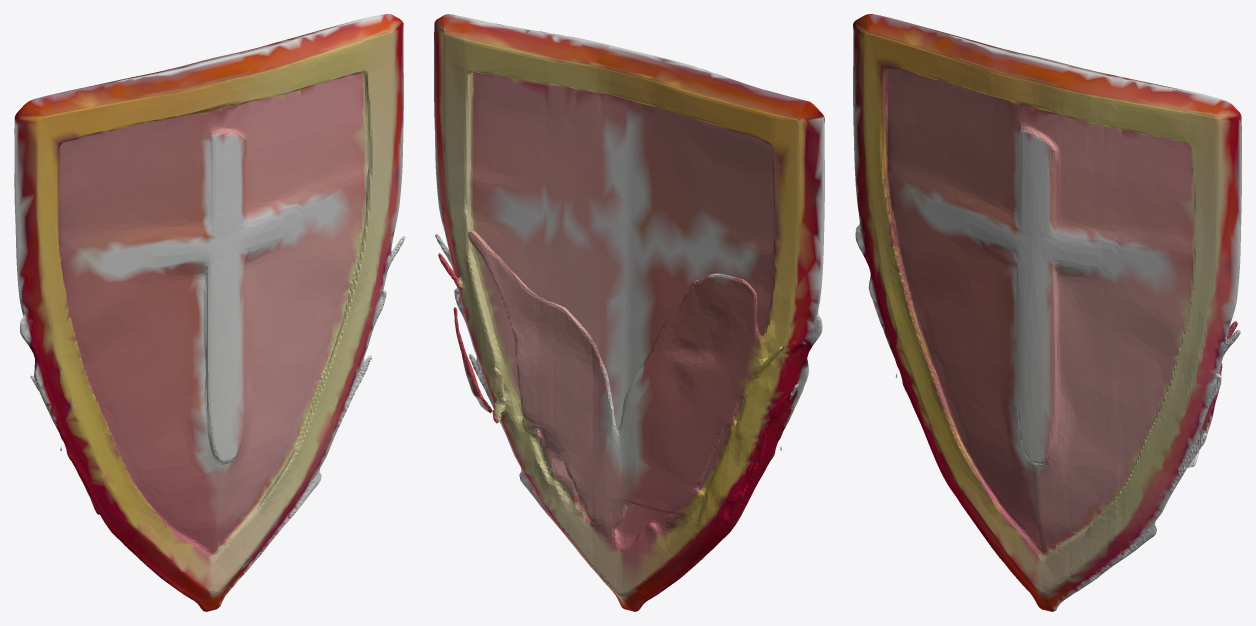
The model's file is holyshield.glb.
3 renders of one model, left to right at view 1: azimuth 30°, elevation 25°; view 2: azimuth 150°, elevation 25°; view 3: azimuth 330°, elevation 25°, orthographic.
Visible parts, largest first — view 1: geometry_0; view 2: geometry_0; view 3: geometry_0.
Part boxes in pixels (bbox=[...]): geometry_0: bbox=[14, 14, 405, 611]; geometry_0: bbox=[434, 14, 824, 611]; geometry_0: bbox=[853, 14, 1241, 611].
Bounding box in the file's own units: 0.5938 × 0.8068 × 0.0834.
